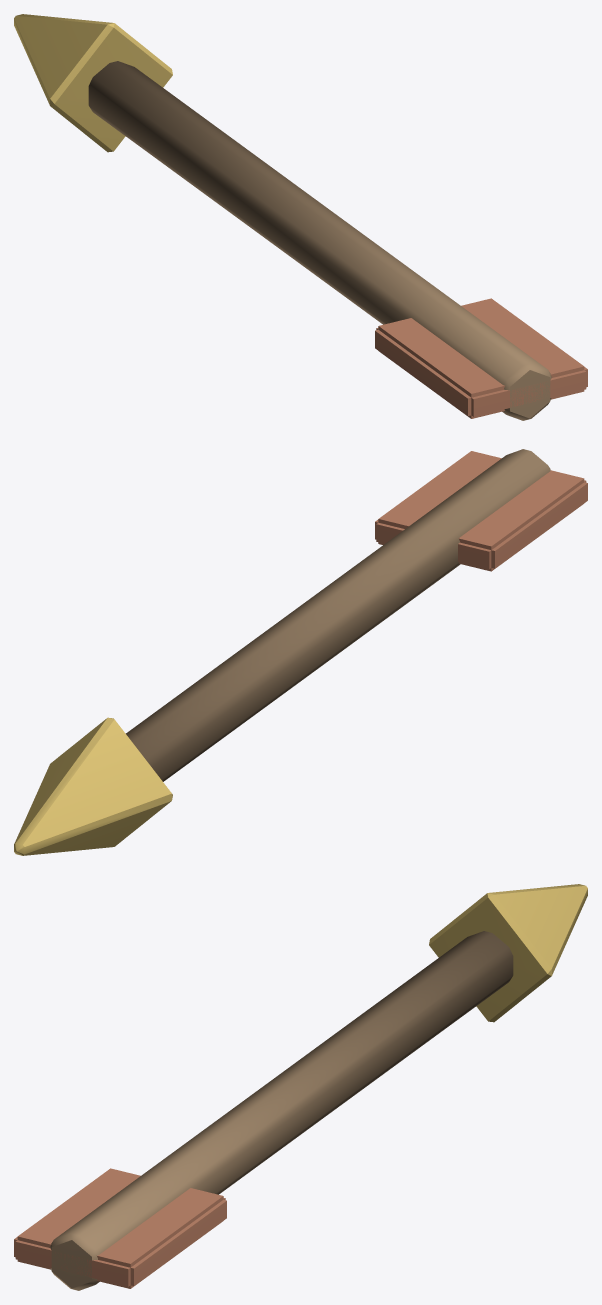
The model's file is arrow_bolt_lod0.glb.
The picture shows the model from 3 angles, top to bottom: view 1: azimuth 30°, elevation 25°; view 2: azimuth 150°, elevation 25°; view 3: azimuth 330°, elevation 25°; orthographic projection.
Visible parts, largest first — view 1: arrow_bolt; view 2: arrow_bolt; view 3: arrow_bolt.
Part boxes in pixels (x1,y1,x2,y2): arrow_bolt: (14,14,587,420); arrow_bolt: (14,449,587,855); arrow_bolt: (14,884,587,1290).
Size of the model in its own units: 0.1015 by 0.1015 by 0.74.
